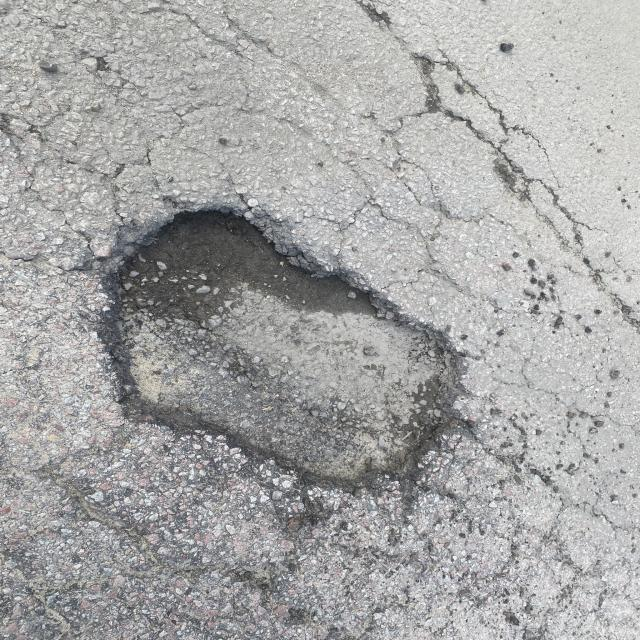Pothole: (99, 182, 533, 550)
